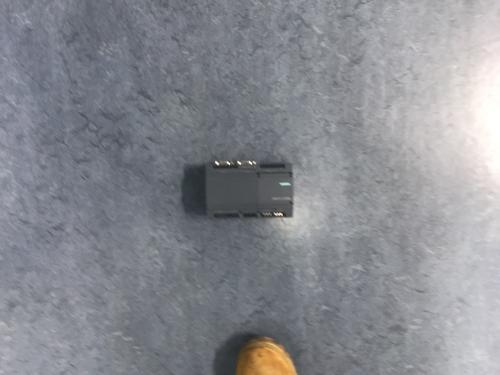device: (206, 161, 293, 220)
